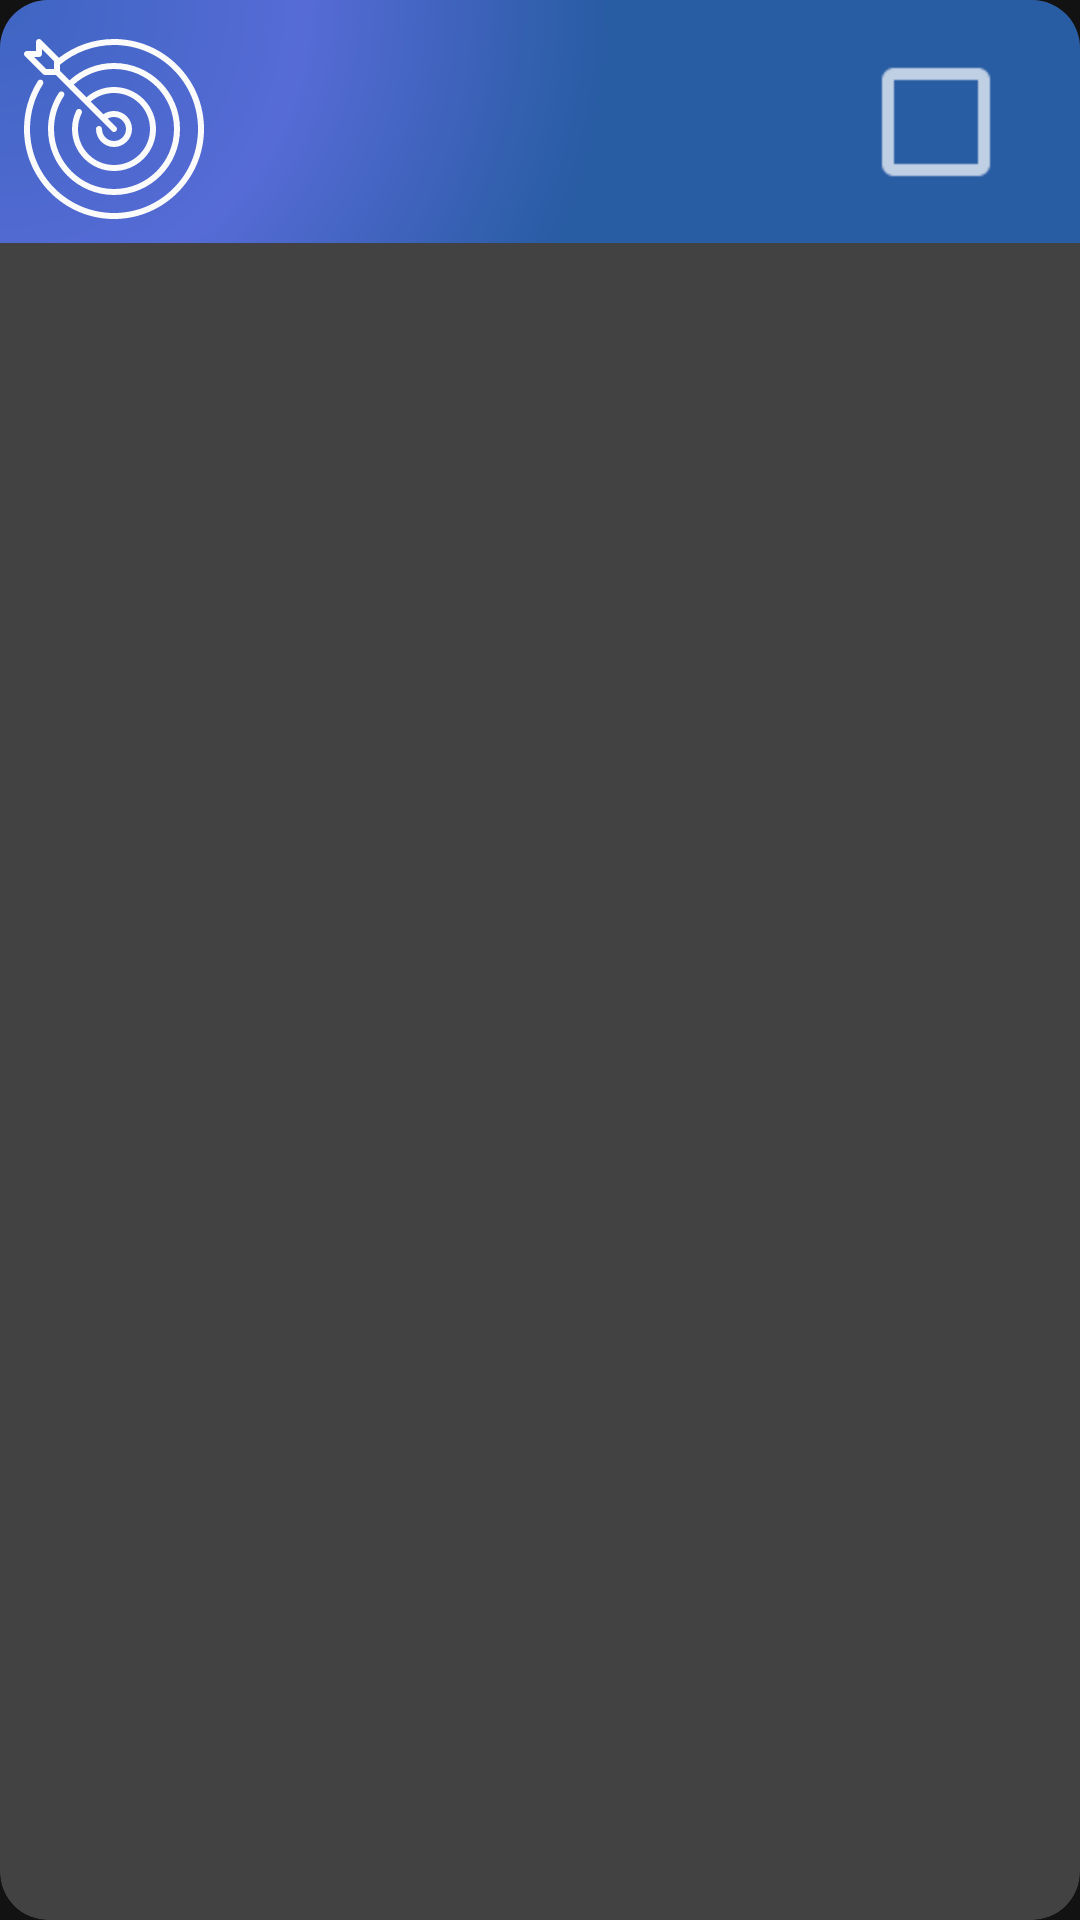

Named icons in this screenshot (1080w x 1920h) and their bounding boxes, Rect(x1, y1, x2, y2):
target: Rect(24, 39, 204, 219)
